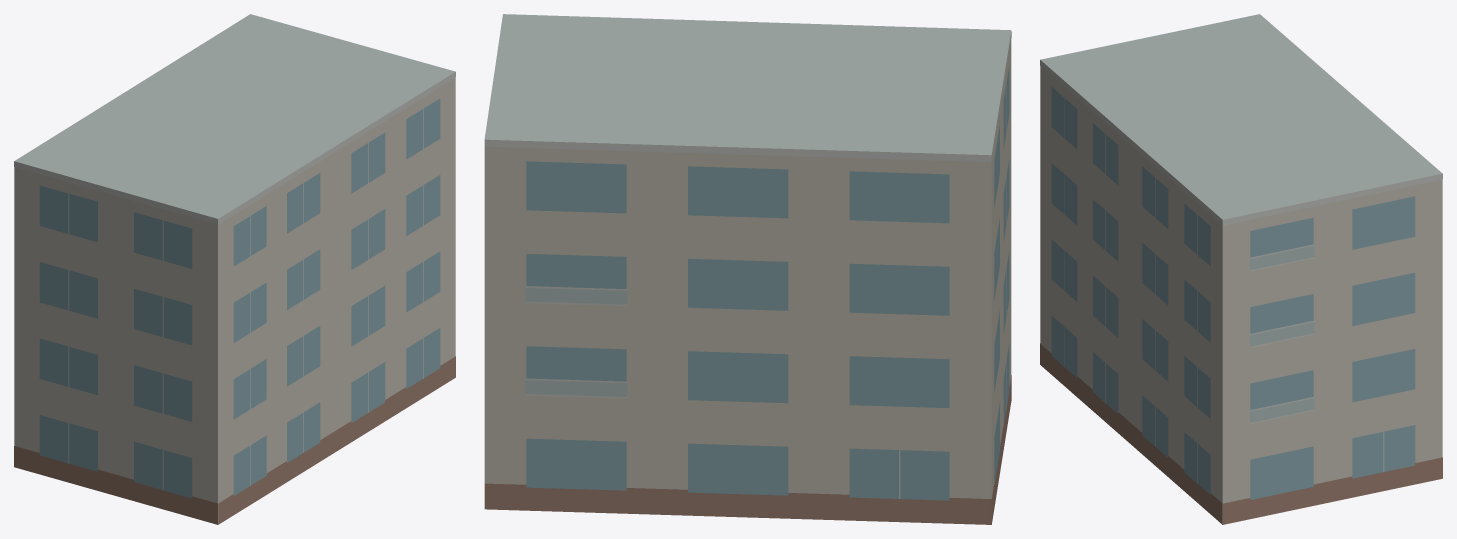
The model's file is survey-upis-32707207.glb.
3 renders of one model, left to right at view 1: azimuth 30°, elevation 25°; view 2: azimuth 150°, elevation 25°; view 3: azimuth 270°, elevation 25°, orthographic. The views are drawn at different scales.
Parts seen in each view (by area): view 1: survey-upis-32707207.tmp; view 2: survey-upis-32707207.tmp; view 3: survey-upis-32707207.tmp.
Boxes of the visible parts, x1,y1,x2,y2 form: survey-upis-32707207.tmp: (14,14,455,524); survey-upis-32707207.tmp: (484,14,1011,524); survey-upis-32707207.tmp: (1040,14,1442,524).
Bounding box in the file's own units: 18.53 × 12.8 × 15.32.
